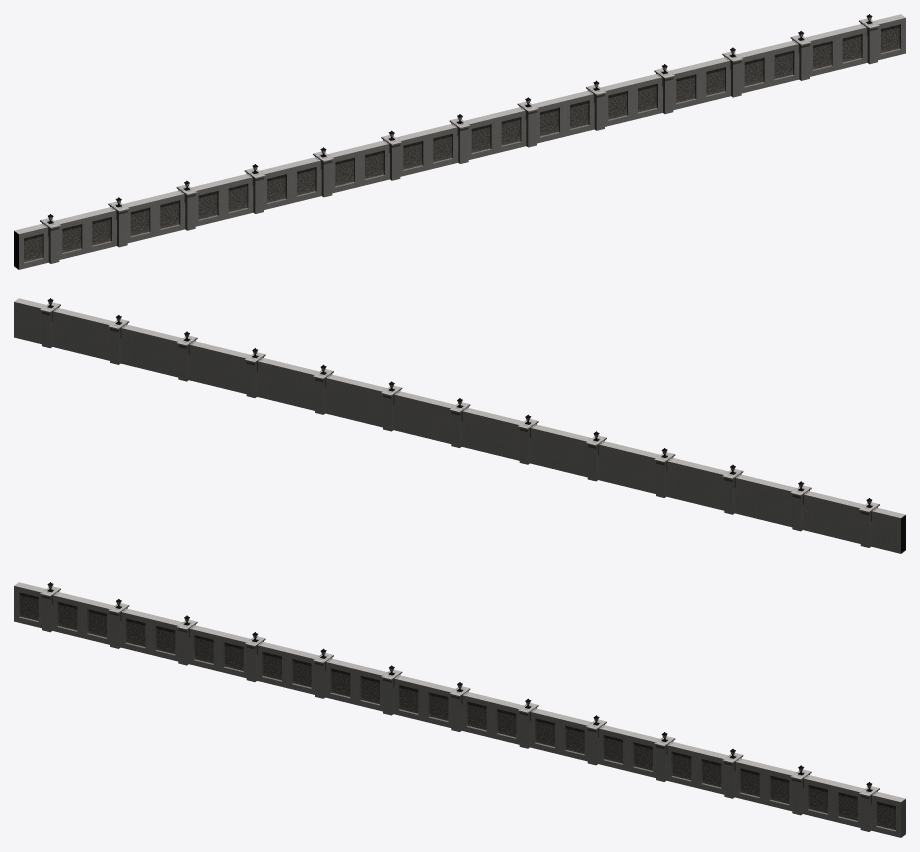
The model's file is wall.glb.
3 views of the same model, one above another, from view 1: azimuth 30°, elevation 25°; view 2: azimuth 150°, elevation 25°; view 3: azimuth 330°, elevation 25° (orthographic).
Parts seen in each view (by area): view 1: Wall_Gltf_Export; view 2: Wall_Gltf_Export; view 3: Wall_Gltf_Export.
Boxes of the visible parts, x1=… form: Wall_Gltf_Export: x1=14, y1=14, x2=905, y2=269; Wall_Gltf_Export: x1=14, y1=298, x2=905, y2=553; Wall_Gltf_Export: x1=14, y1=582, x2=905, y2=837.
Size of the model in its own units: 52 by 2.57 by 1.08.
1 material, 1 textured.
